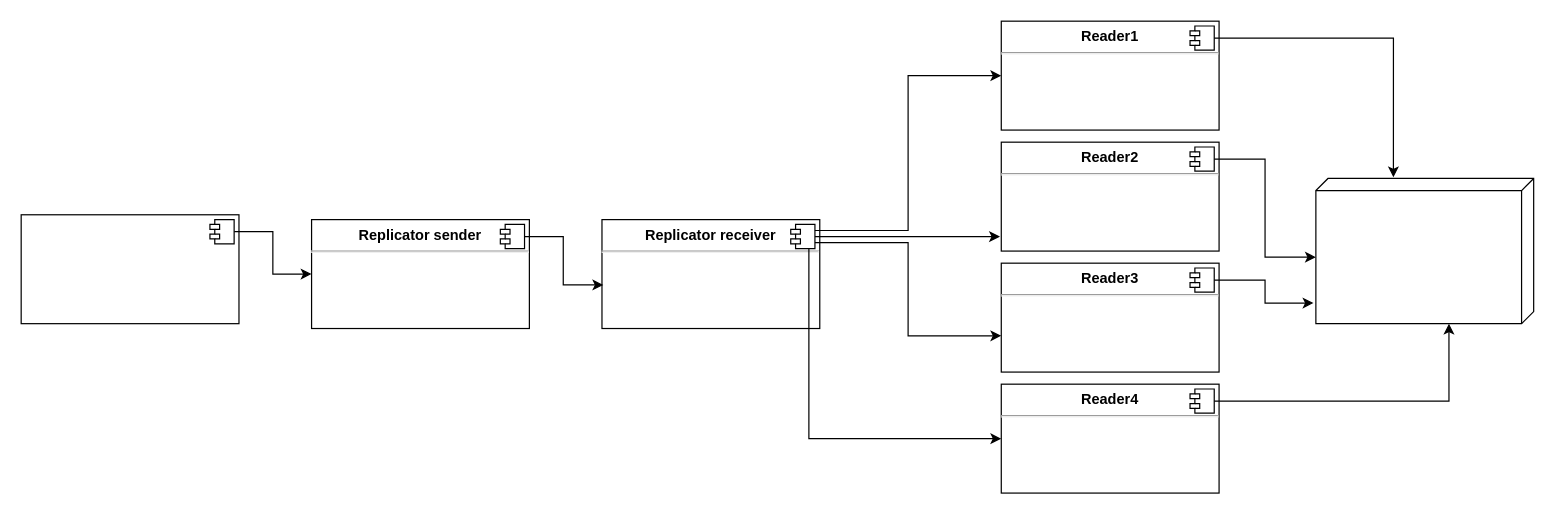
Some shapes in this 1555 by 514 pixel diagram are drawn without their labels. Here are the shapes that lost their labels. From the top down, the box of each, then its label:
(20, 214, 239, 324): Writer
(1315, 177, 1534, 324): Baza
